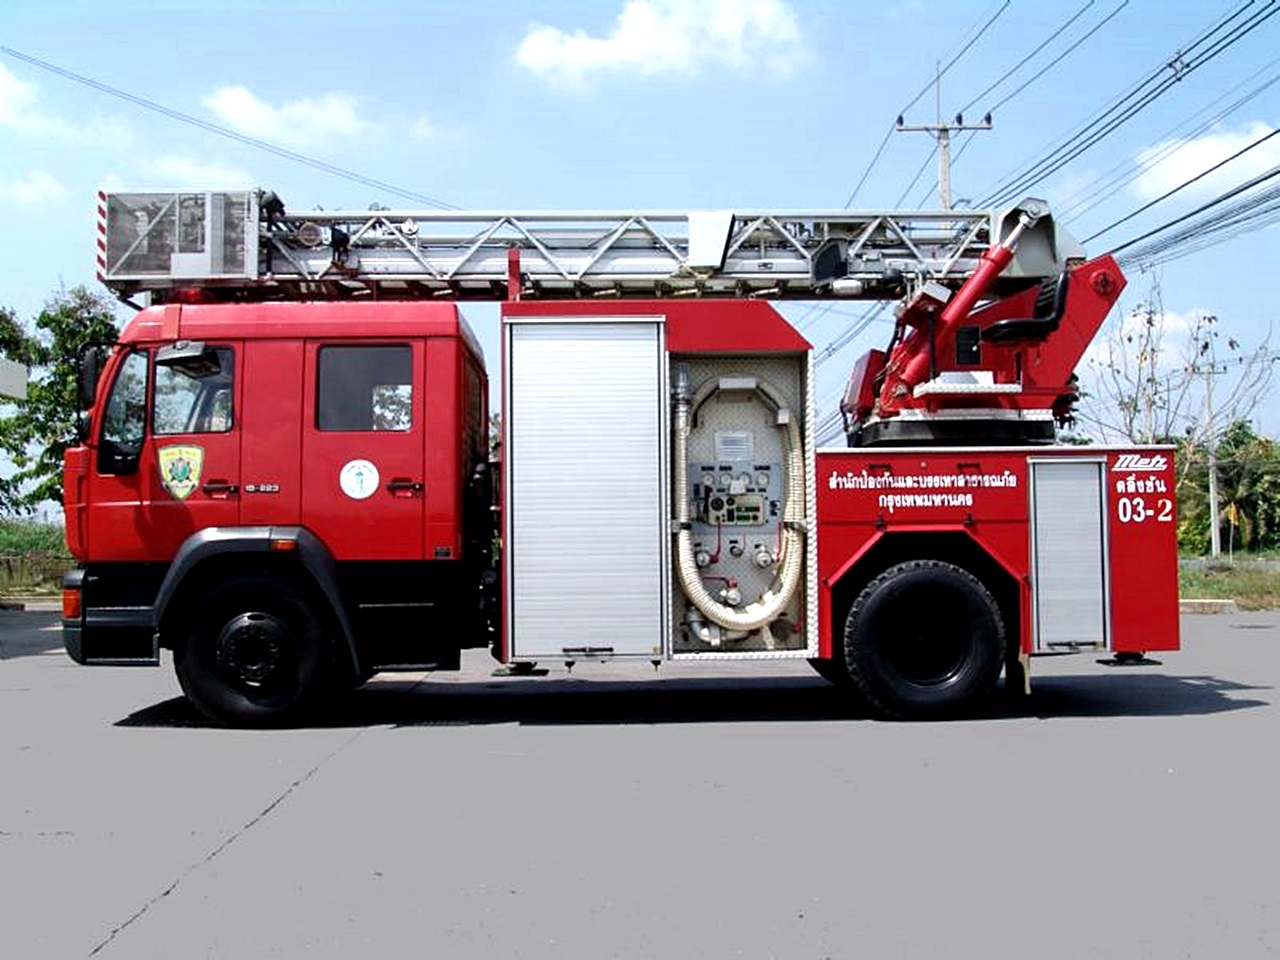truck: (55, 183, 1184, 718)
